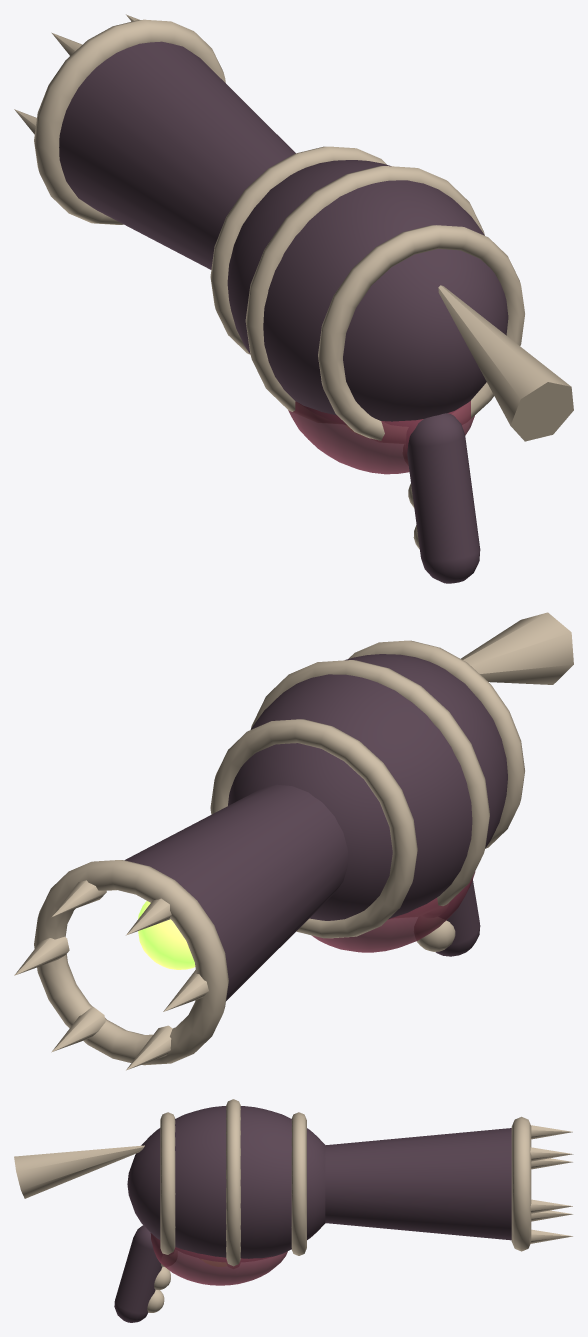
The model's file is grafted-brood-spore_launcher.glb.
The picture shows the model from 3 angles, top to bottom: view 1: azimuth 30°, elevation 25°; view 2: azimuth 150°, elevation 25°; view 3: azimuth 270°, elevation 25°; orthographic projection. The views are drawn at different scales.
Visible parts, largest first — view 1: drum_shell, maw_tube, drum, grip_shaft, maw_lip, shoulder_brace, bile_sac; view 2: drum_shell, maw_tube, drum, maw_lip, shoulder_brace, maw, bile_sac, maw_gland, grip_shaft, knuckle_nub_3; view 3: drum_shell, maw_tube, drum, shoulder_brace, bile_sac, grip_shaft, maw_lip, maw, knuckle_nub_3.
Part boxes in pixels (x1=…): drum_shell: x1=227, y1=160, x2=508, y2=421; maw_tube: x1=59, y1=41, x2=295, y2=269; drum: x1=210, y1=146, x2=524, y2=440; grip_shaft: x1=407, y1=413, x2=480, y2=583; maw_lip: x1=34, y1=19, x2=225, y2=224; shoulder_brace: x1=438, y1=285, x2=573, y2=441; bile_sac: x1=288, y1=401, x2=474, y2=474; drum_shell: x1=228, y1=654, x2=507, y2=920; maw_tube: x1=125, y1=784, x2=347, y2=1000; drum: x1=210, y1=640, x2=524, y2=938; maw_lip: x1=34, y1=860, x2=228, y2=1065; shoulder_brace: x1=461, y1=612, x2=573, y2=684; maw: x1=14, y1=880, x2=208, y2=1070; bile_sac: x1=311, y1=871, x2=475, y2=952; maw_gland: x1=138, y1=901, x2=195, y2=969; grip_shaft: x1=435, y1=879, x2=480, y2=956; knuckle_nub_3: x1=416, y1=920, x2=455, y2=951; drum_shell: x1=127, y1=1106, x2=325, y2=1258; maw_tube: x1=325, y1=1128, x2=511, y2=1240; drum: x1=160, y1=1099, x2=306, y2=1266; shoulder_brace: x1=14, y1=1145, x2=144, y2=1198; bile_sac: x1=150, y1=1233, x2=287, y2=1285; grip_shaft: x1=114, y1=1225, x2=162, y2=1322; maw_lip: x1=511, y1=1116, x2=531, y2=1251; maw: x1=530, y1=1125, x2=573, y2=1243; knuckle_nub_3: x1=147, y1=1290, x2=164, y2=1312.
Size of the model in its own units: 0.26 by 0.3596 by 0.8552.
